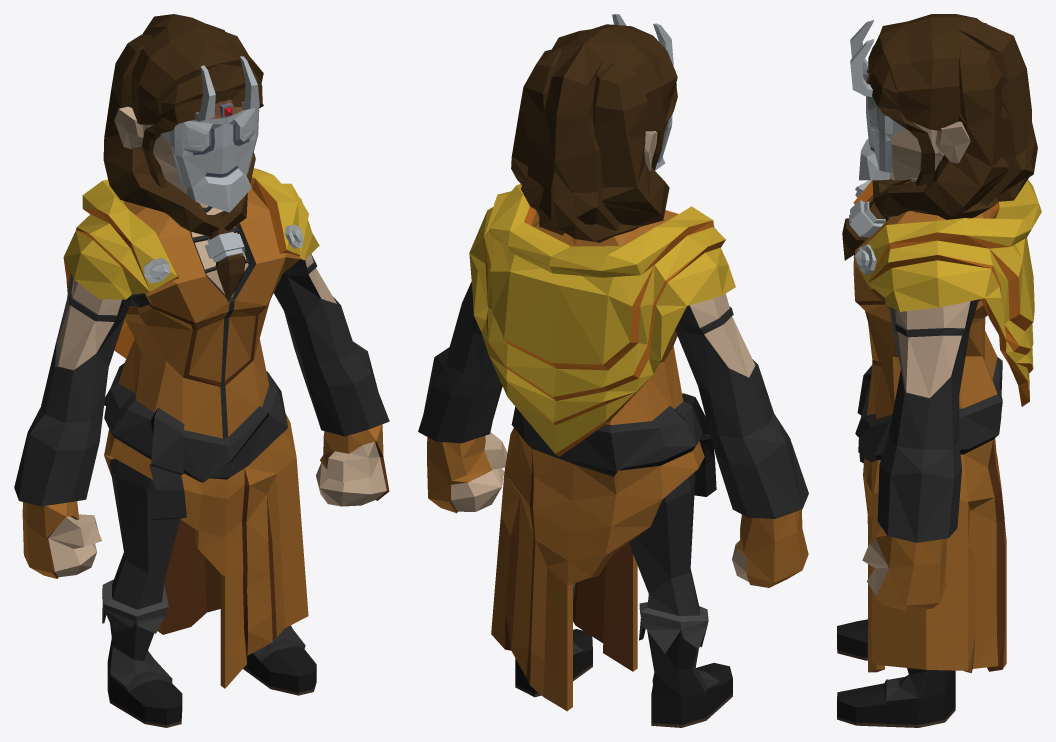
File: PriestDawnIdle.dae
The picture shows the model from 3 angles, left to right: view 1: azimuth 30°, elevation 25°; view 2: azimuth 150°, elevation 25°; view 3: azimuth 270°, elevation 25°; orthographic projection. The views are drawn at different scales.
Parts seen in each view (by area): view 1: PriestessDawn; view 2: PriestessDawn; view 3: PriestessDawn.
Boxes of the visible parts, <box> form: PriestessDawn: <box>14,14,389,727</box>; PriestessDawn: <box>418,14,808,727</box>; PriestessDawn: <box>837,14,1041,727</box>.
Size of the model in its own units: 5.28 by 2.5 by 8.96.
